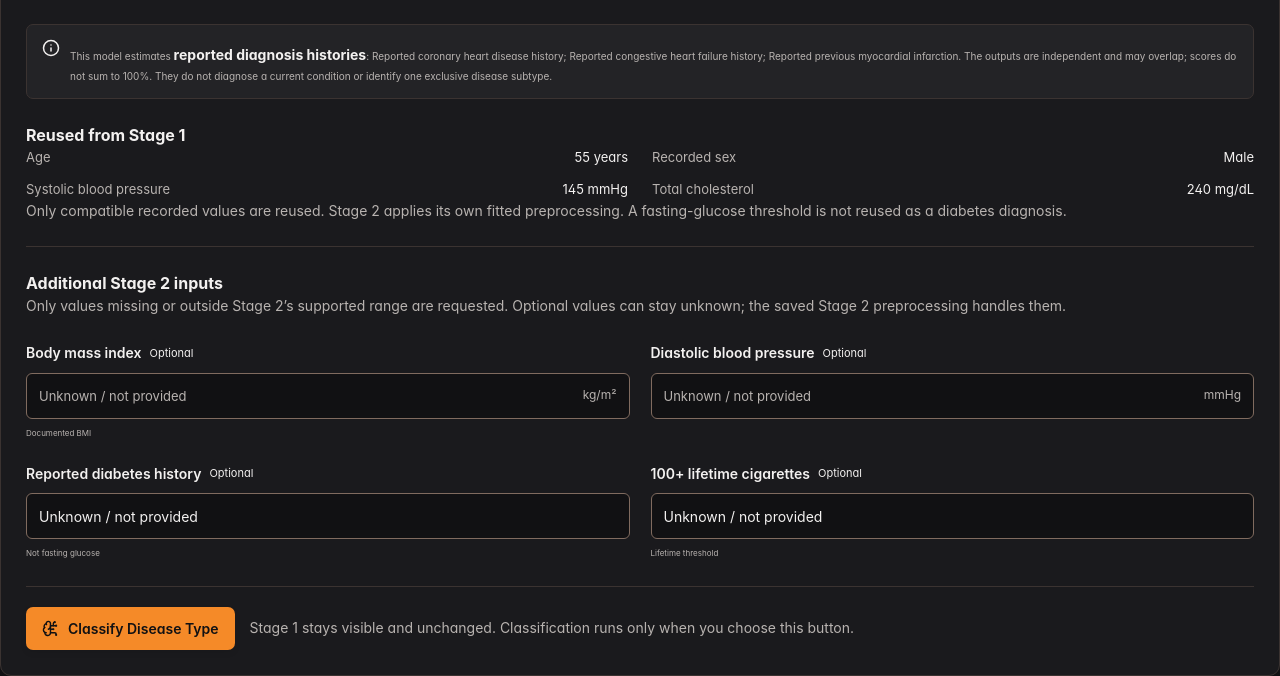
Test: Stage 2 extension › does not force a winning disease category when every score is below threshold
This screenshot has width=1280, height=676.
(page scrolled)
Click the button "Classify Disease Type".
click(130, 628)  # box x1=26 y1=607 x2=235 y2=650
(page scrolled)
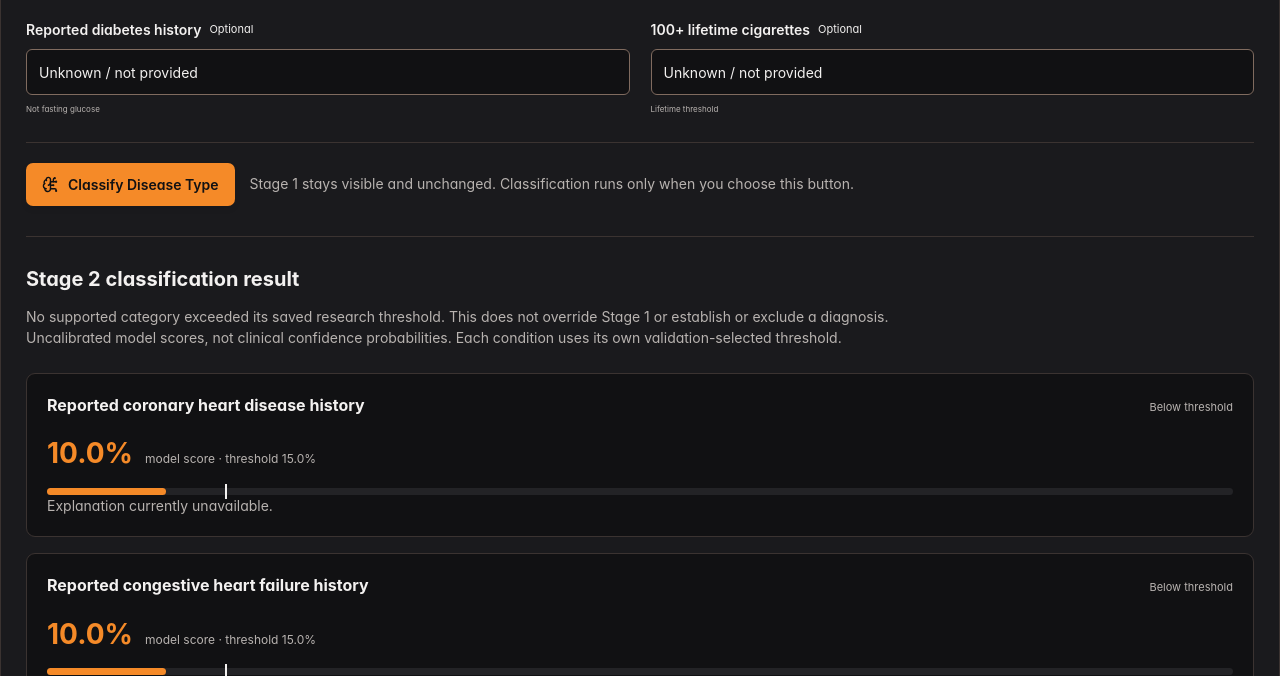
Expected: the text "No supported category exceeded its saved research threshold" is shown, x1=26 y1=308 x2=445 y2=325
Expected: the text "Below threshold" is shown 3 times
